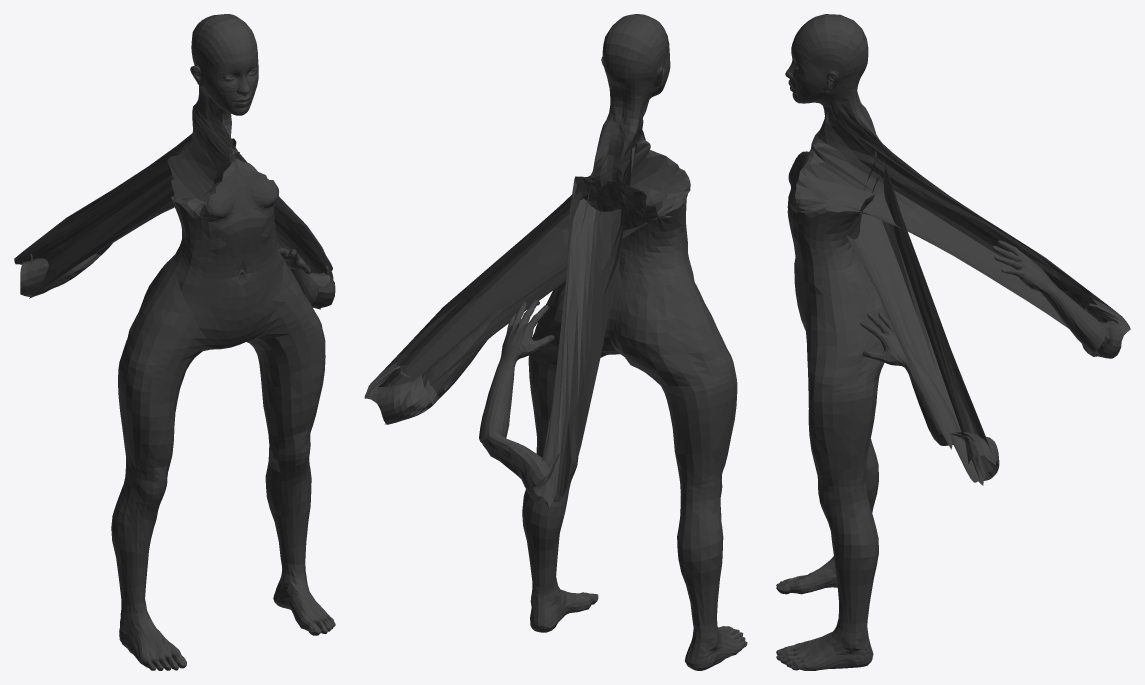
The model's file is male.glb.
3 views of the same model, side by side, from view 1: azimuth 30°, elevation 25°; view 2: azimuth 150°, elevation 25°; view 3: azimuth 270°, elevation 25° (orthographic).
Visible parts, largest first — view 1: vitals_male; view 2: vitals_male; view 3: vitals_male.
Boxes of the visible parts, x1=… form: vitals_male: x1=14, y1=14, x2=335, y2=670; vitals_male: x1=364, y1=14, x2=747, y2=670; vitals_male: x1=776, y1=14, x2=1130, y2=670.
Size of the model in its own units: 0.8388 by 1.74 by 0.9158.
1 material, 1 textured.
